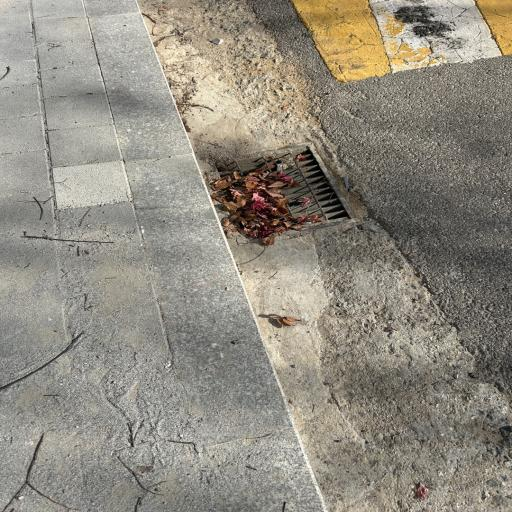debris: (263, 146, 307, 170), (267, 182, 289, 207), (291, 209, 325, 224), (229, 188, 246, 211), (237, 156, 259, 170), (244, 172, 259, 192), (269, 226, 285, 238), (253, 193, 267, 206), (217, 176, 230, 187), (241, 228, 257, 236), (294, 224, 304, 230), (233, 171, 240, 178), (239, 217, 246, 223), (352, 212, 358, 219), (272, 208, 279, 214), (258, 183, 265, 188), (285, 221, 290, 226), (273, 219, 278, 224), (261, 173, 265, 179), (304, 172, 308, 175)
drain: (212, 145, 359, 244)
